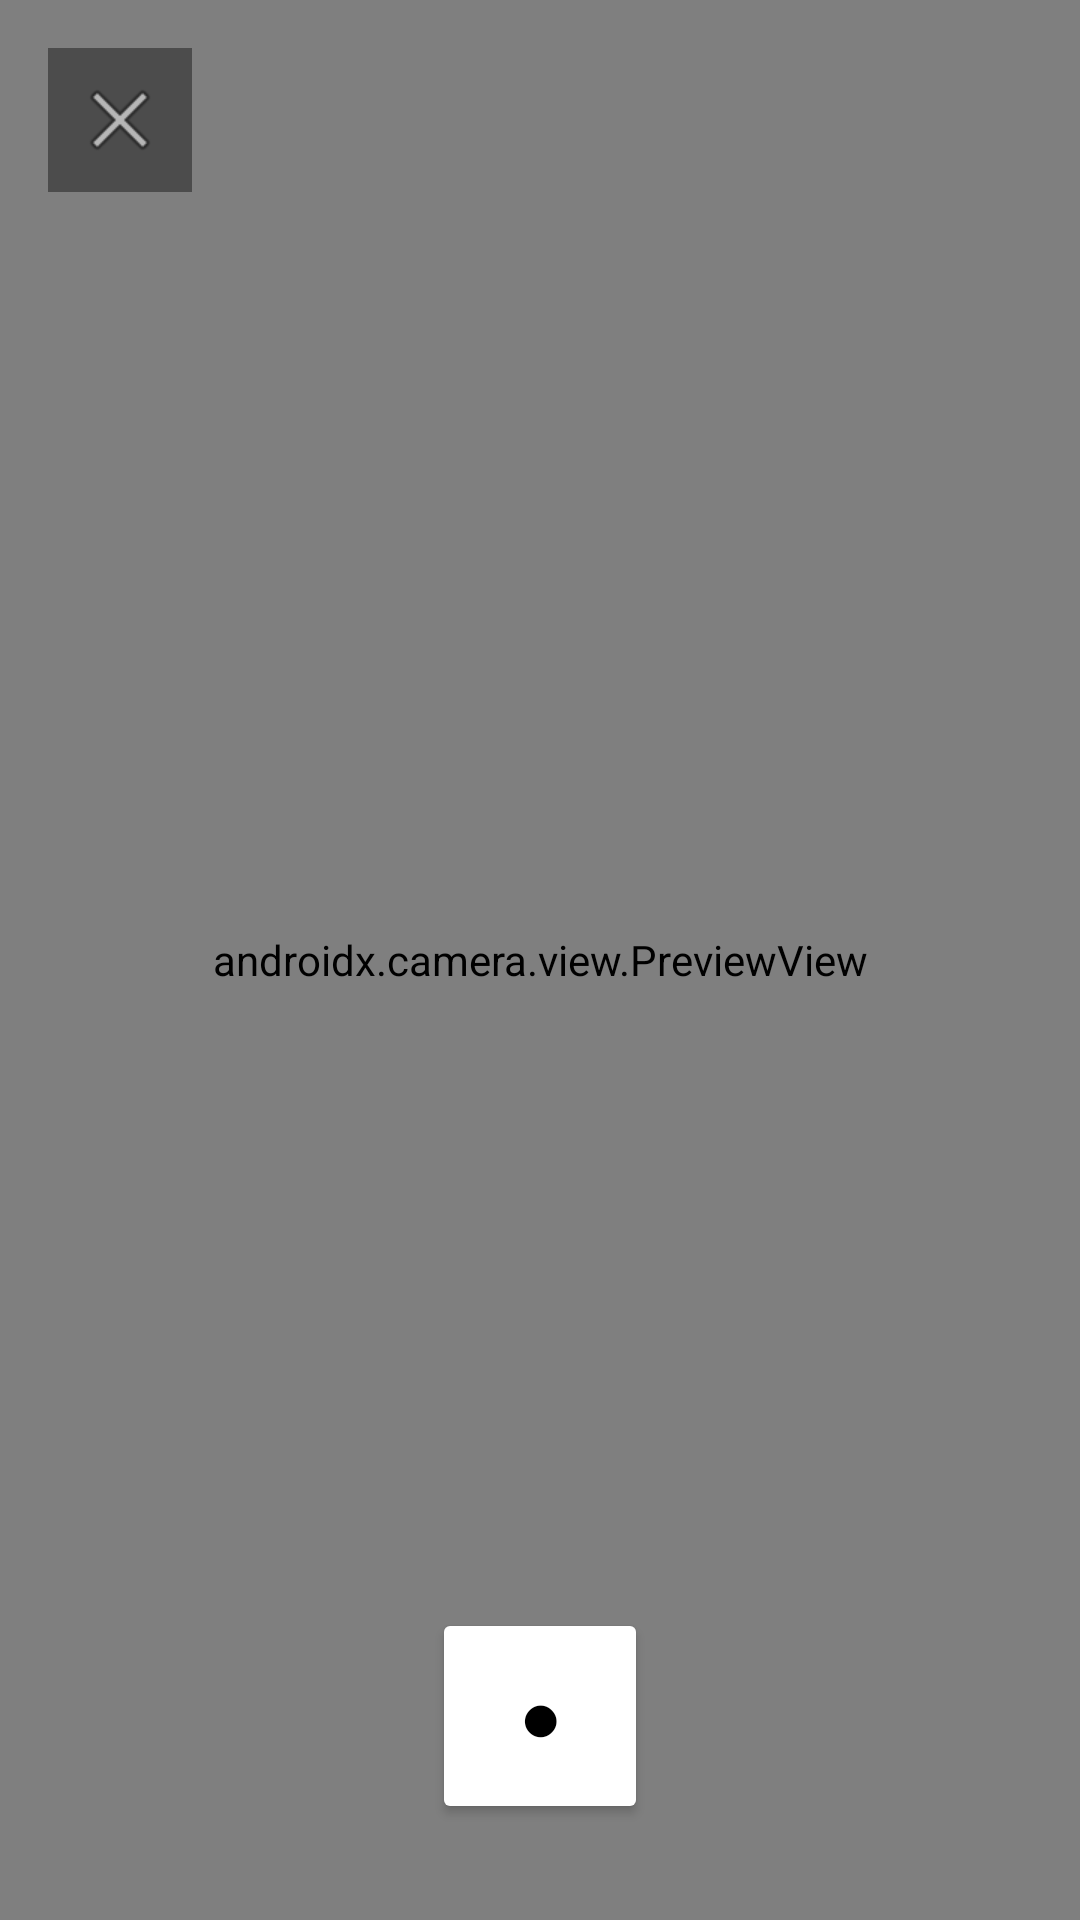

Icon click points for this 1080px×1920px phone screenshot, format (x=x, y=y):
Nazad: (x=120, y=120)
